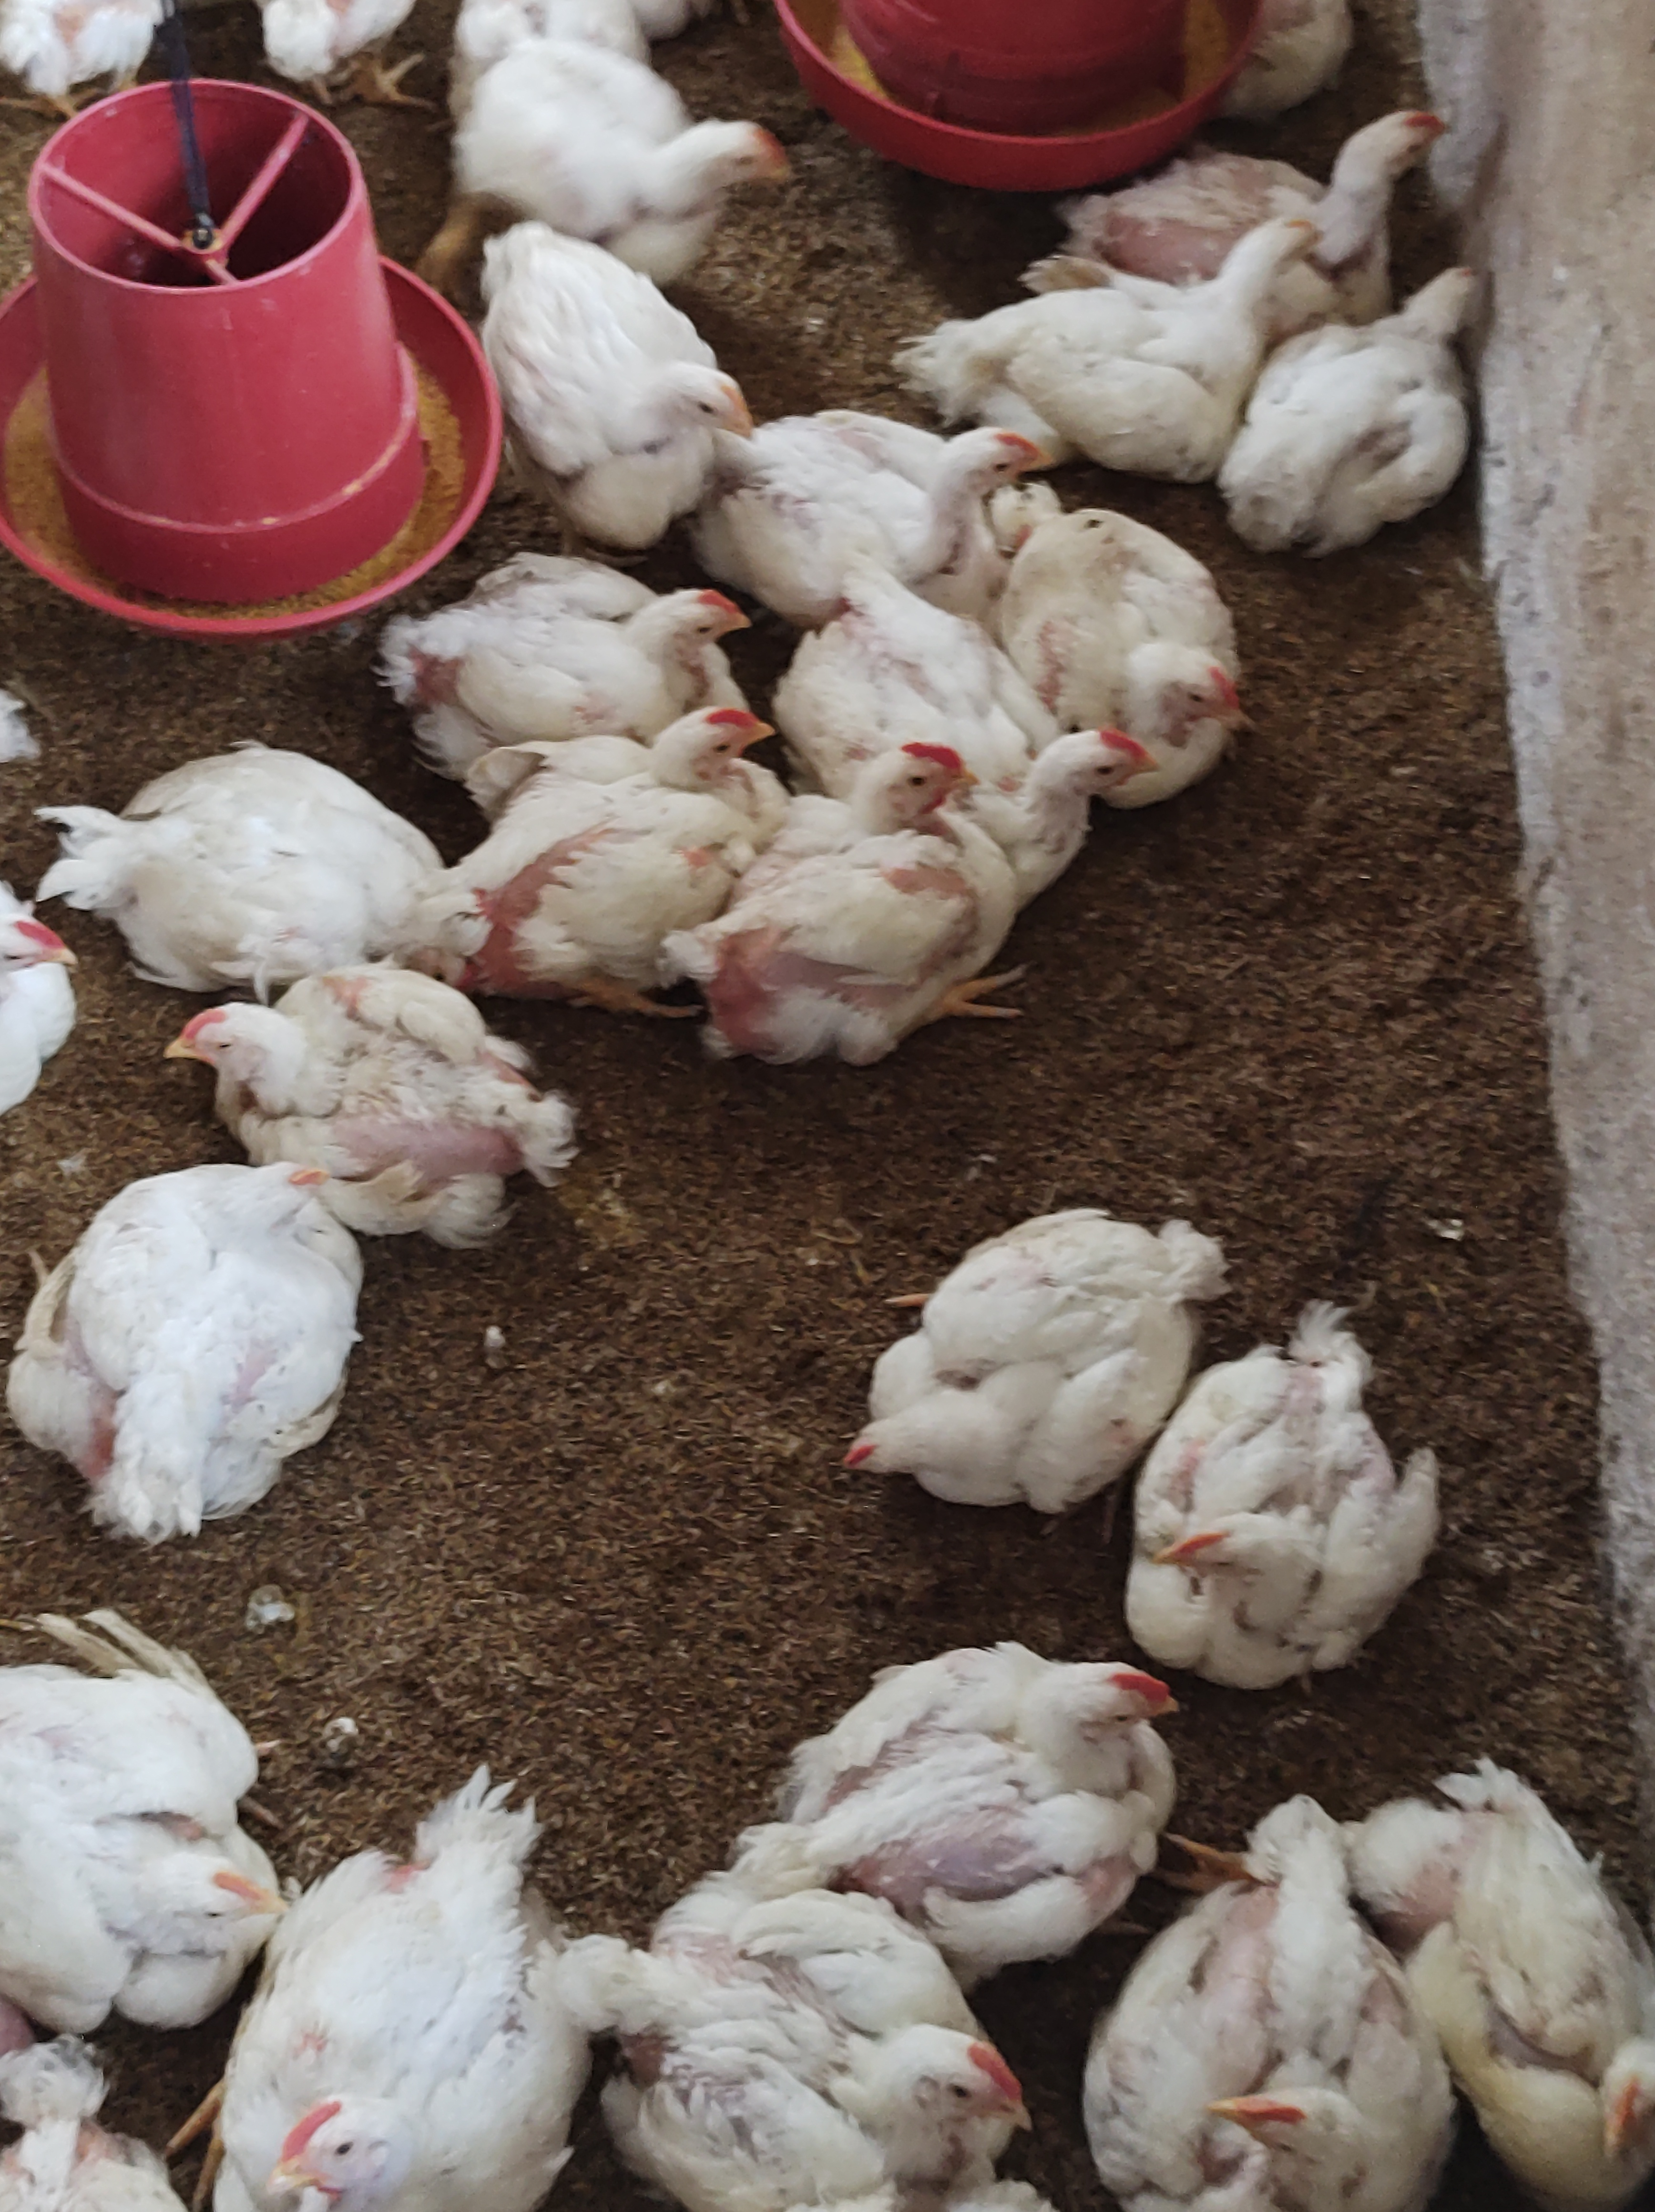Pollos: (12, 1149, 377, 1542), (833, 1233, 1240, 1529), (169, 965, 575, 1252), (1109, 1868, 1439, 2212), (1415, 1770, 1655, 2212), (221, 1911, 584, 2198), (473, 664, 768, 1010), (0, 1626, 264, 2003), (1137, 1339, 1439, 1668), (827, 1640, 1177, 1922), (76, 750, 487, 988), (464, 224, 758, 522), (742, 743, 987, 1073), (433, 40, 833, 231), (1017, 198, 1358, 419), (1297, 261, 1530, 539), (694, 405, 1038, 586), (1000, 496, 1253, 713), (396, 562, 753, 713), (798, 1993, 1050, 2130), (0, 873, 120, 1125), (987, 725, 1160, 885), (1332, 83, 1459, 237), (263, 0, 429, 113), (0, 0, 179, 97)
